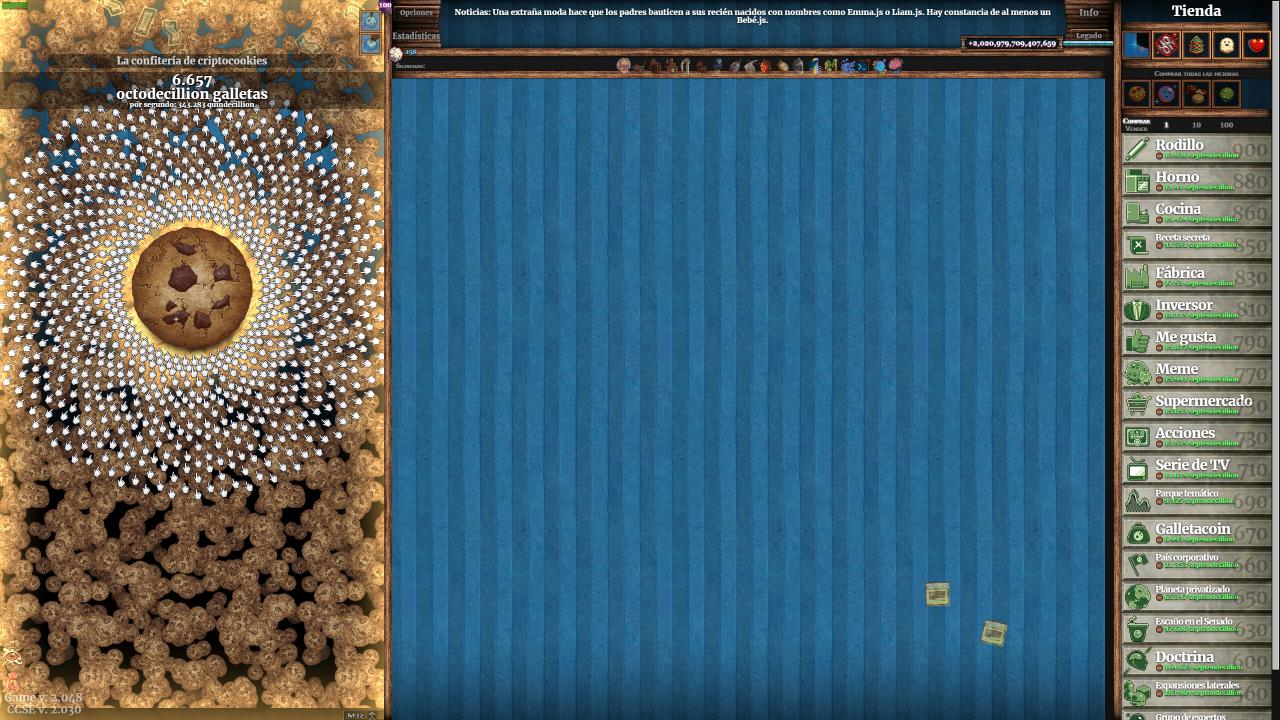GoldenCartridge: (922, 579, 953, 610), (980, 618, 1010, 648)
